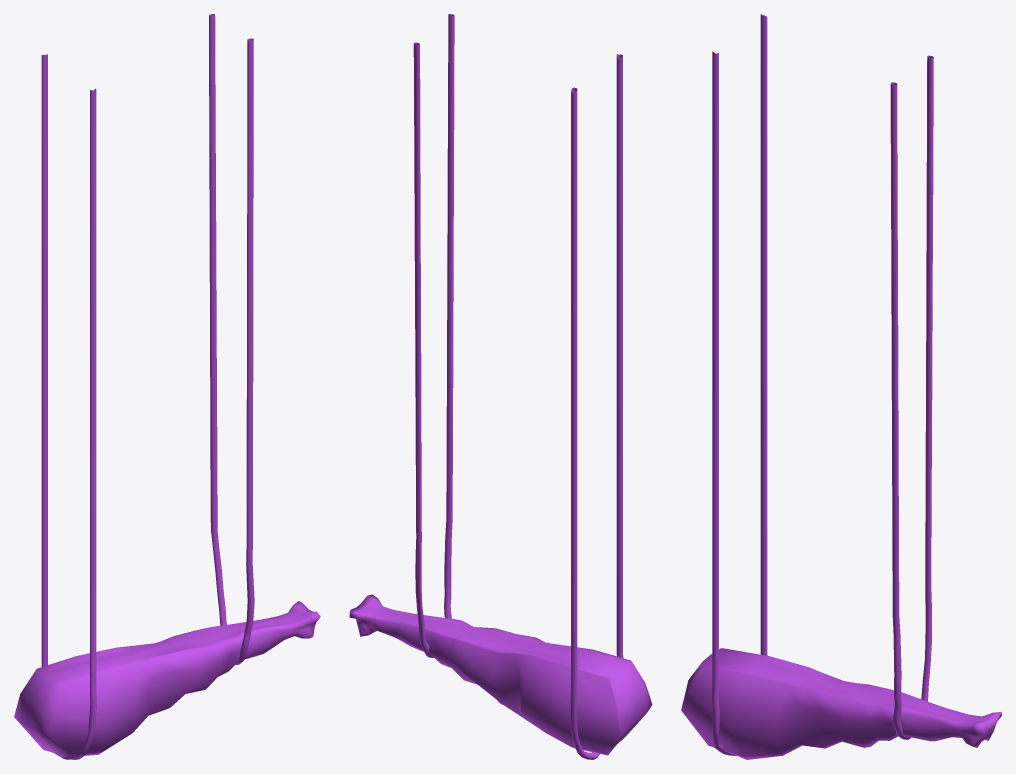
The model's file is Bife.fbx.
3 renders of one model, left to right at view 1: azimuth 30°, elevation 25°; view 2: azimuth 150°, elevation 25°; view 3: azimuth 330°, elevation 25°, orthographic. The views are drawn at different scales.
Parts seen in each view (by area): view 1: Cube.040, Cube.029; view 2: Cube.040, Cube.029; view 3: Cube.040, Cube.029.
Boxes of the visible parts, x1,y1,x2,y2 form: Cube.040: [14, 601, 320, 757]; Cube.029: [41, 14, 254, 759]; Cube.040: [349, 594, 652, 755]; Cube.029: [413, 14, 623, 759]; Cube.040: [681, 648, 1001, 759]; Cube.029: [712, 14, 933, 755].
Size of the model in its own units: 2400 by 5649 by 740.
